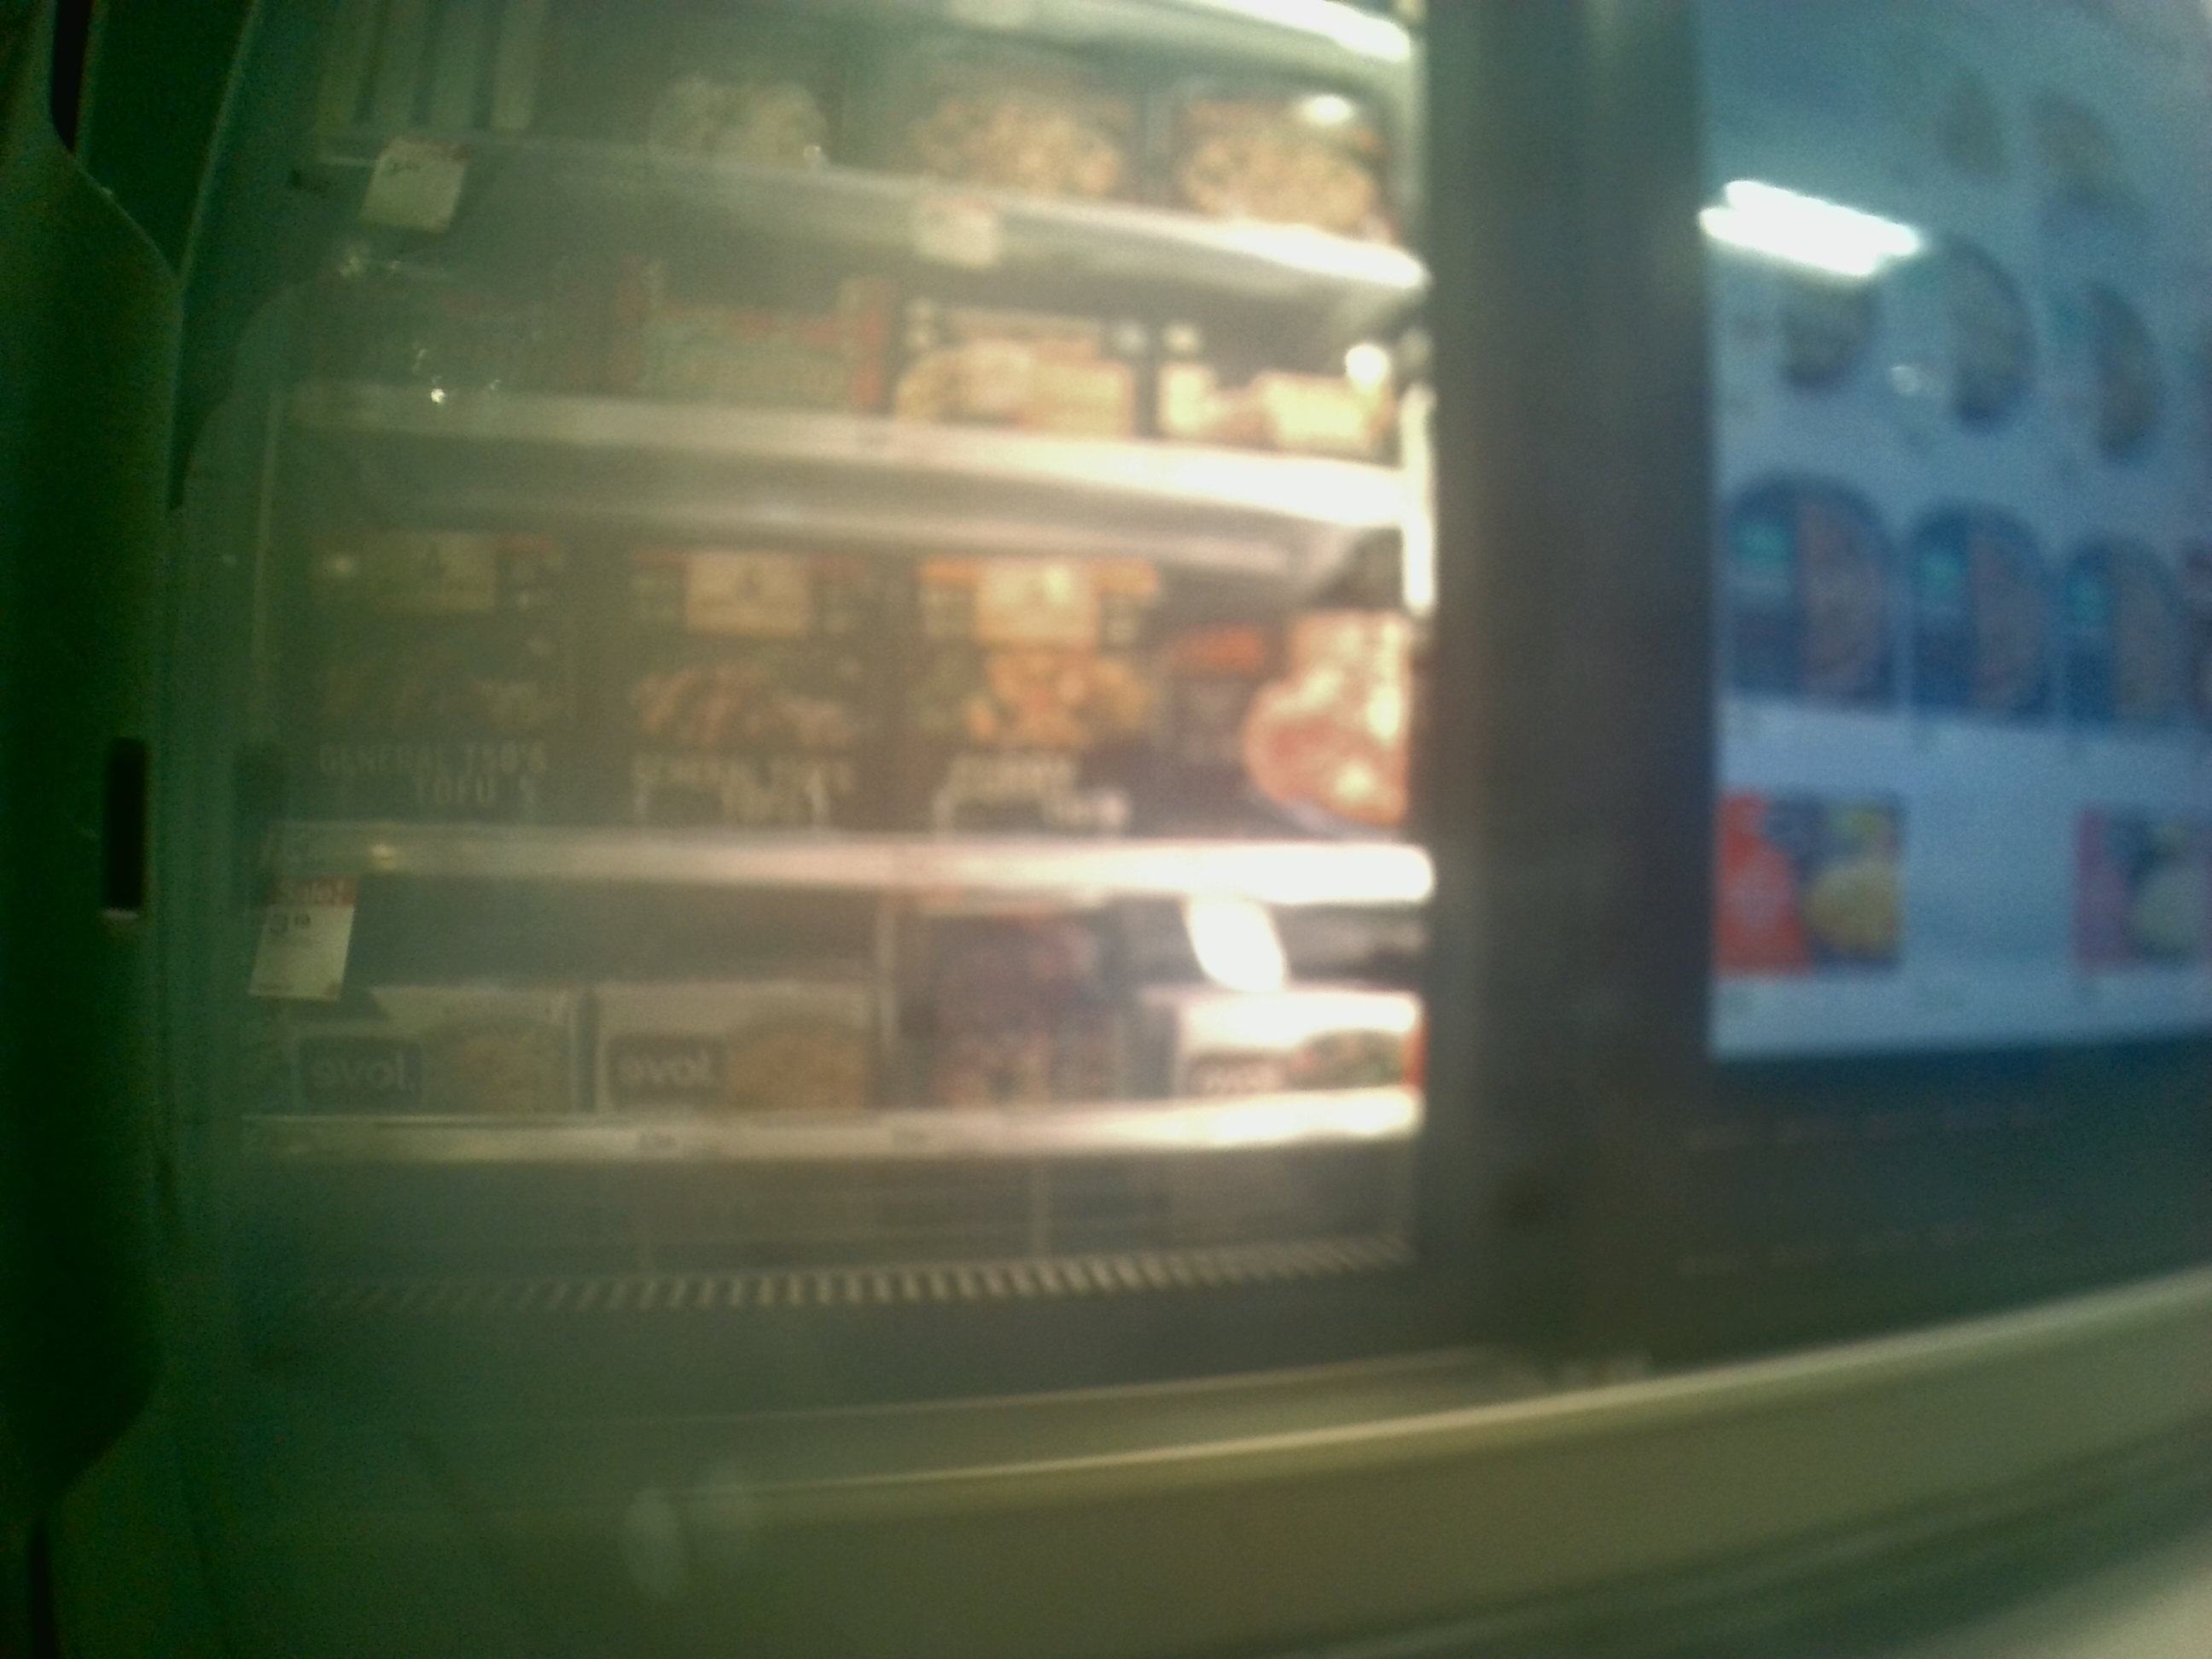frozen-food-shelf: (244, 533, 1446, 913), (235, 913, 1418, 1159)
